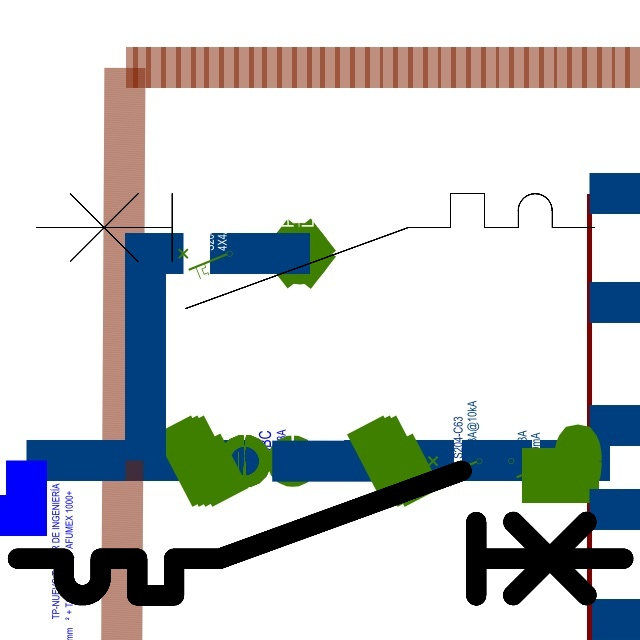interruptor_termomagnetico: (2, 455, 639, 611), (22, 179, 609, 322)
